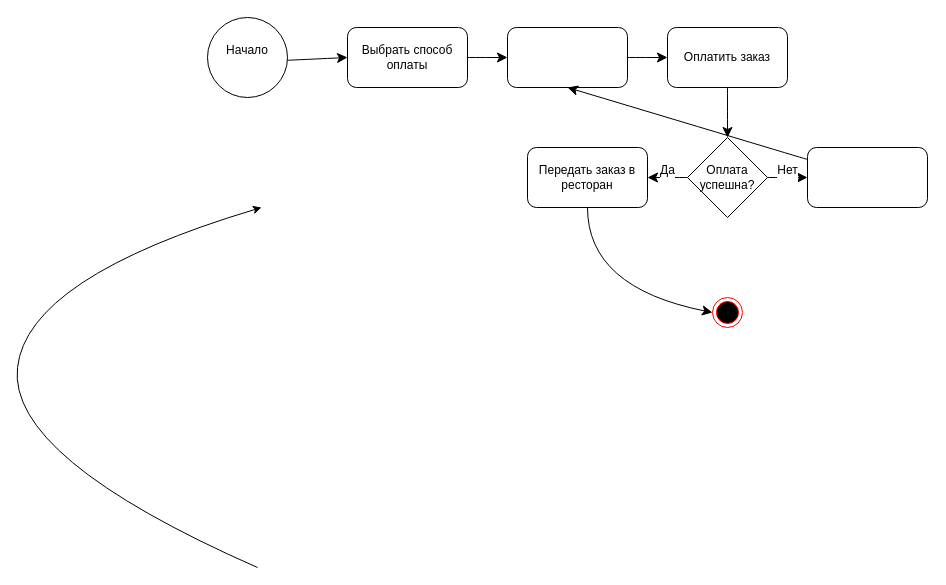
The diagram is 946 pixels wide and 585 high, and some of its shapes have lost their labels. Each missing label, with the centre of its shape:
Ввести платежные данные: point 567,57
Выбрать другой способ оплаты: point 867,177
